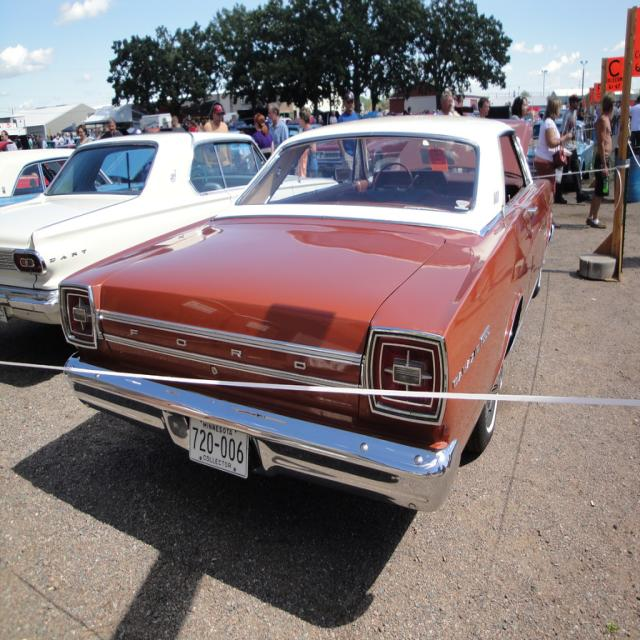car: (58, 112, 558, 513)
